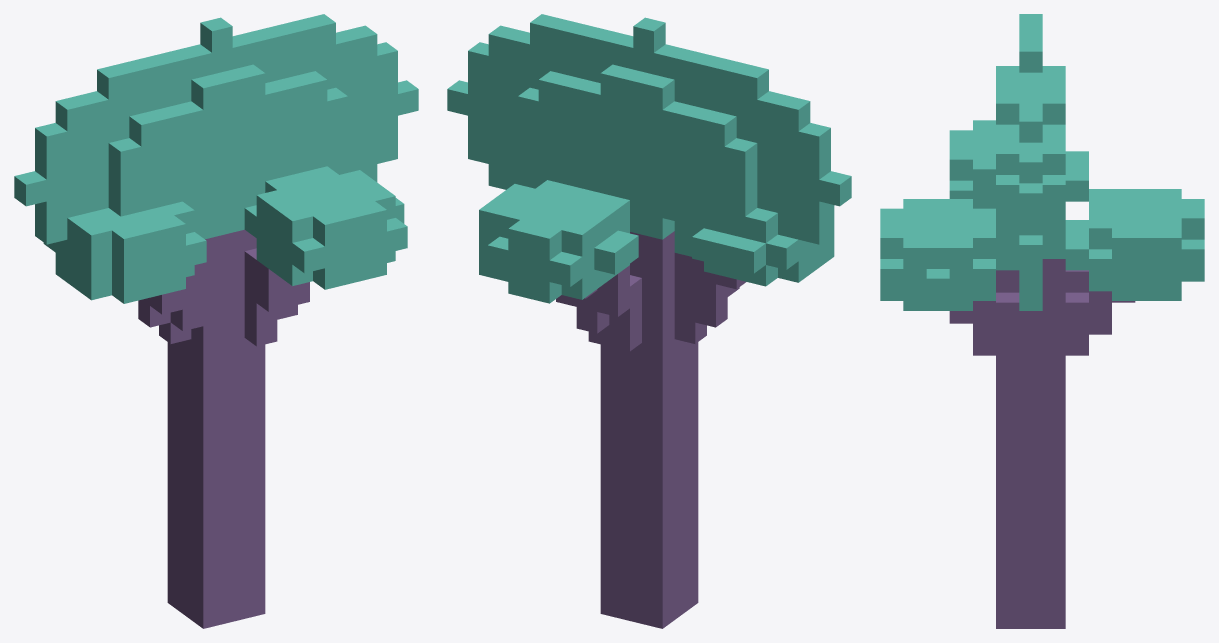
The model's file is alien-biosphere-fan-tree-f1e330fb__22680.glb.
3 views of the same model, side by side, from view 1: azimuth 30°, elevation 25°; view 2: azimuth 150°, elevation 25°; view 3: azimuth 270°, elevation 25° (orthographic). The views are drawn at different scales.
Visible parts, largest first — view 1: fan-tree; view 2: fan-tree; view 3: fan-tree.
Boxes of the visible parts, bbox=[...] form: fan-tree: bbox=[14, 14, 418, 628]; fan-tree: bbox=[447, 14, 851, 628]; fan-tree: bbox=[880, 14, 1204, 628].
Size of the model in its own units: 3.8 by 5.4 by 2.8.
